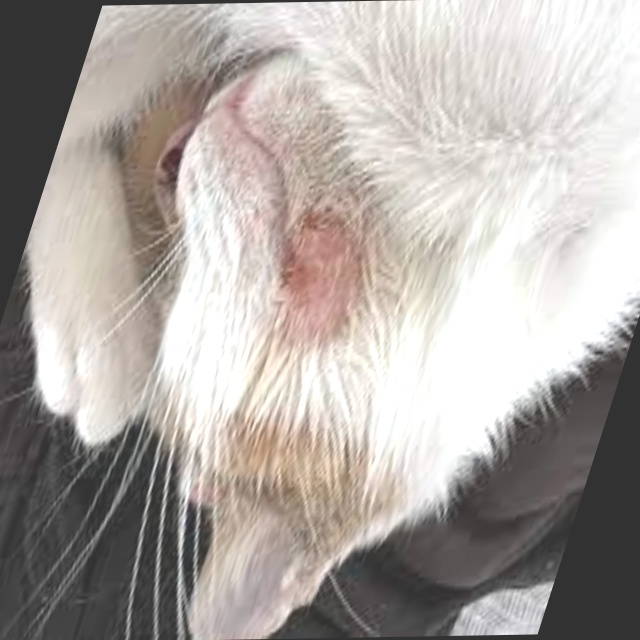ringworm: (255, 219, 381, 331)
